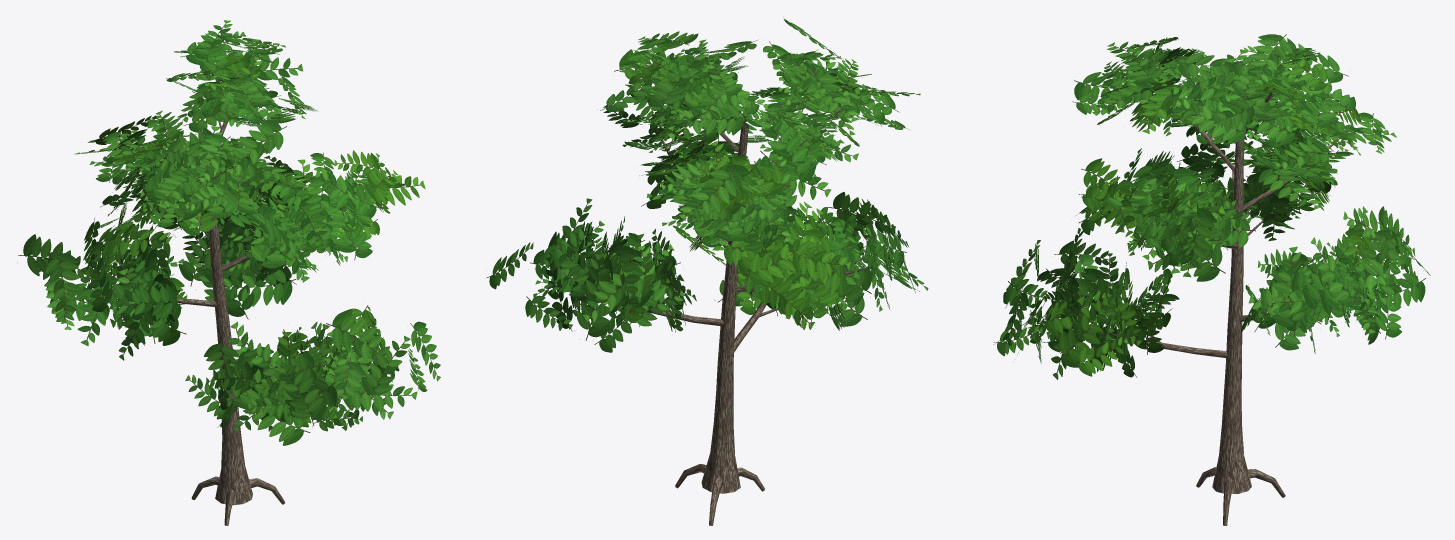
Rendered from media_a.glb.
3 views of the same model, side by side, from view 1: azimuth 30°, elevation 25°; view 2: azimuth 150°, elevation 25°; view 3: azimuth 270°, elevation 25° (orthographic). The views are drawn at different scales.
Parts seen in each view (by area): view 1: media_a; view 2: media_a; view 3: media_a.
Part boxes in pixels (x1=…): media_a: x1=17, y1=20, x2=440, y2=525; media_a: x1=487, y1=17, x2=928, y2=525; media_a: x1=993, y1=34, x2=1430, y2=525.
Bounding box in the file's own units: 8.63 × 10.4 × 9.28.
2 materials, 2 textured.
